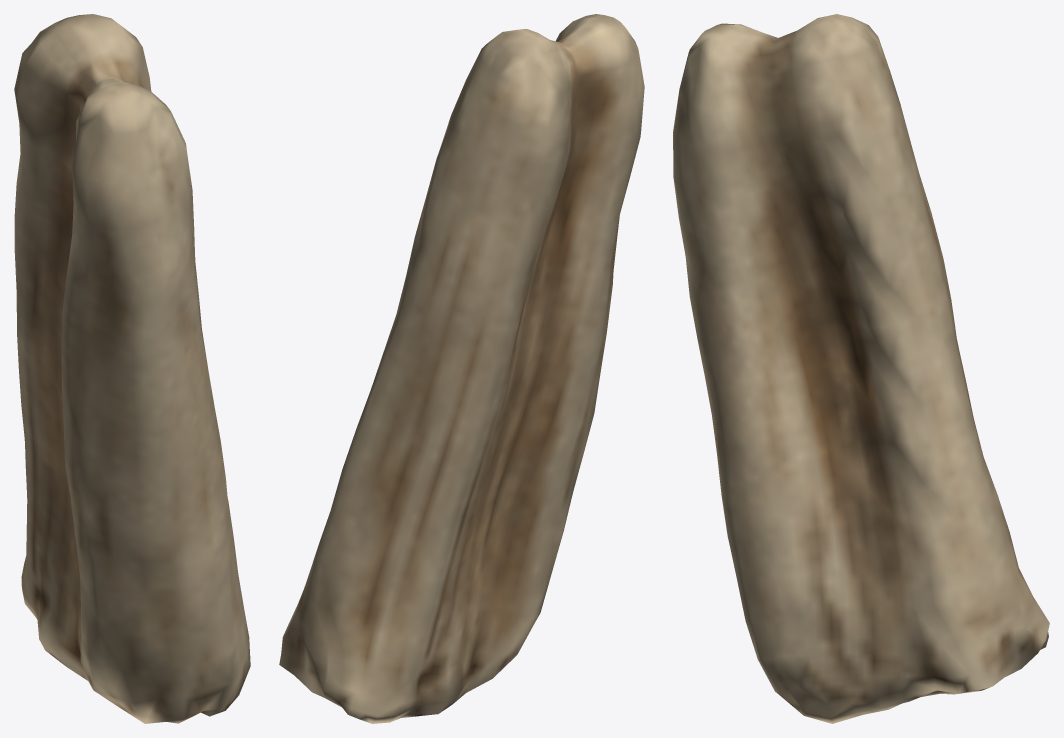
Rendered from Maxilary_Molar1.glb.
3 renders of one model, left to right at view 1: azimuth 30°, elevation 25°; view 2: azimuth 150°, elevation 25°; view 3: azimuth 270°, elevation 25°, orthographic. The views are drawn at different scales.
Parts seen in each view (by area): view 1: Group15812_Mesh.061; view 2: Group15812_Mesh.061; view 3: Group15812_Mesh.061.
Part boxes in pixels (<box>): Group15812_Mesh.061: <box>14,14,250,723</box>; Group15812_Mesh.061: <box>279,14,644,723</box>; Group15812_Mesh.061: <box>673,14,1049,723</box>.
Size of the model in its own units: 0.0292 by 0.0804 by 0.0423.
1 material, 1 textured.
